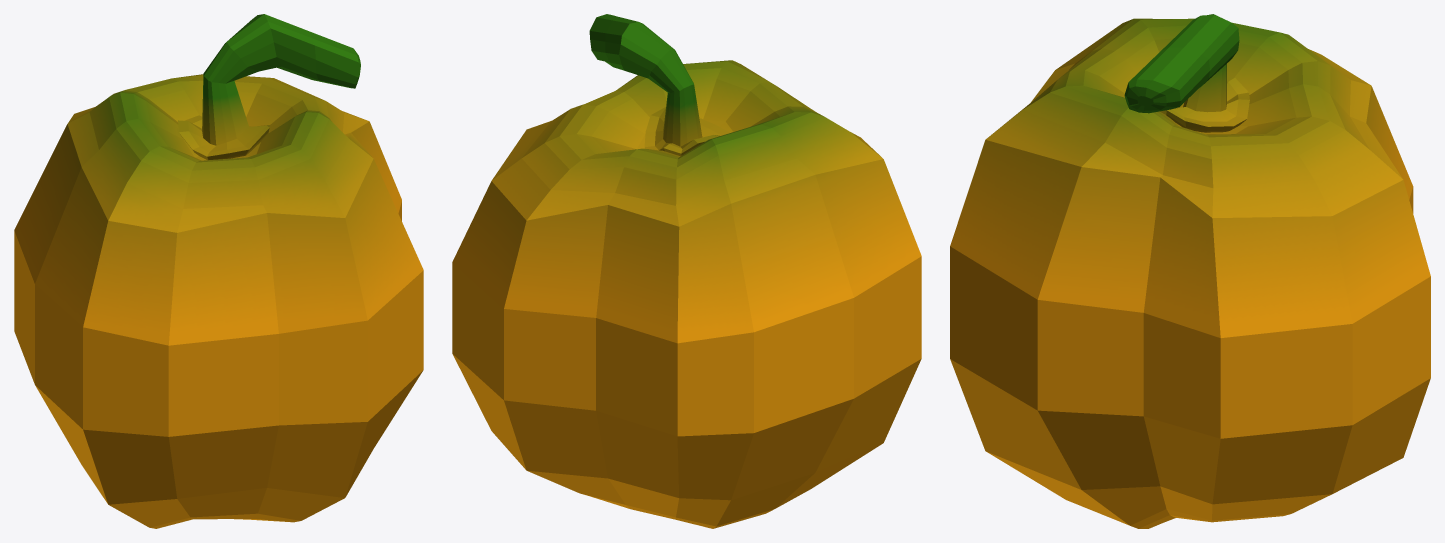
The model's file is Bell pepper 3.fbx.
3 views of the same model, side by side, from view 1: azimuth 30°, elevation 25°; view 2: azimuth 150°, elevation 25°; view 3: azimuth 270°, elevation 25° (orthographic). The views are drawn at different scales.
Visible parts, largest first — view 1: Sphere.002; view 2: Sphere.002; view 3: Sphere.002.
Part boxes in pixels (x1,y1,x2,y2): Sphere.002: (14, 14, 423, 528); Sphere.002: (452, 14, 921, 528); Sphere.002: (950, 14, 1430, 528).
Size of the model in its own units: 0.0726 by 0.0851 by 0.0721.
Materials: 1 (1 with a texture image).
